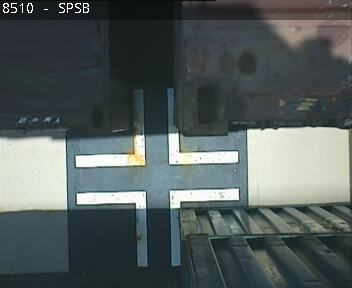groundmarker_1: (75, 87, 239, 170), (76, 184, 240, 266)
